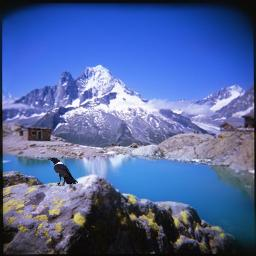Crow: (47, 157, 78, 186)
